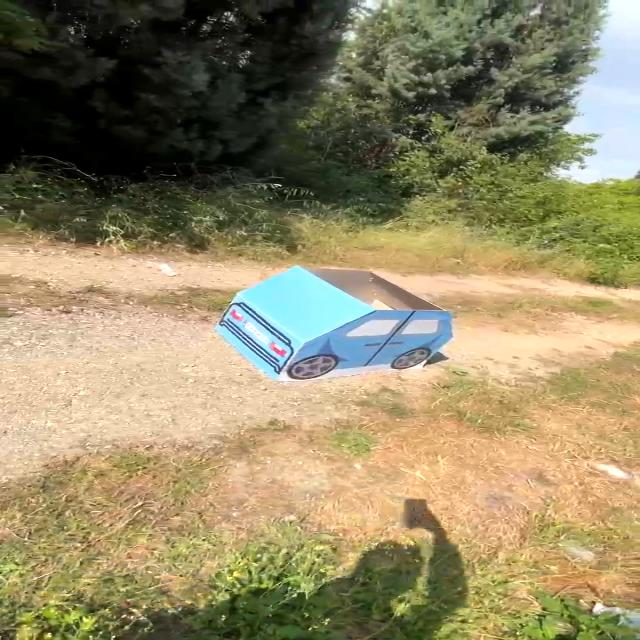blue_car: (205, 260, 462, 384)
